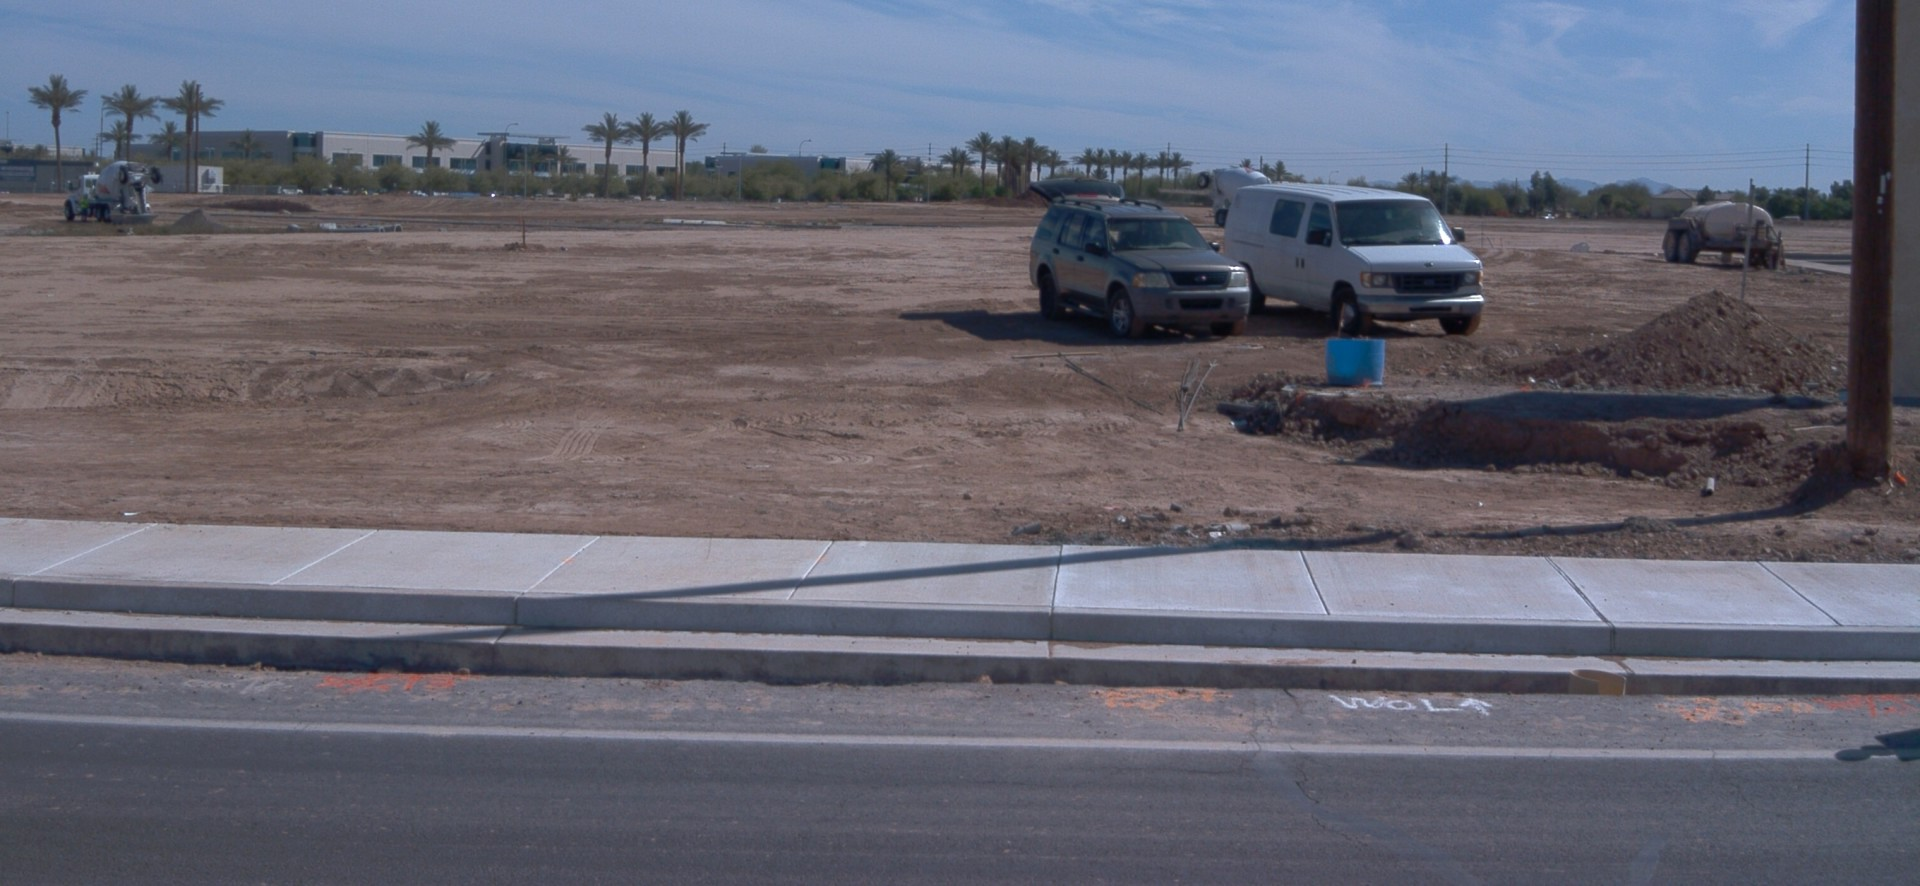TYPE_PEDESTRIAN: (76, 193, 91, 225)
TYPE_VEHICLE: (1219, 181, 1486, 341), (1024, 177, 1251, 342), (1666, 195, 1789, 274), (61, 160, 164, 226), (1194, 163, 1280, 226)
